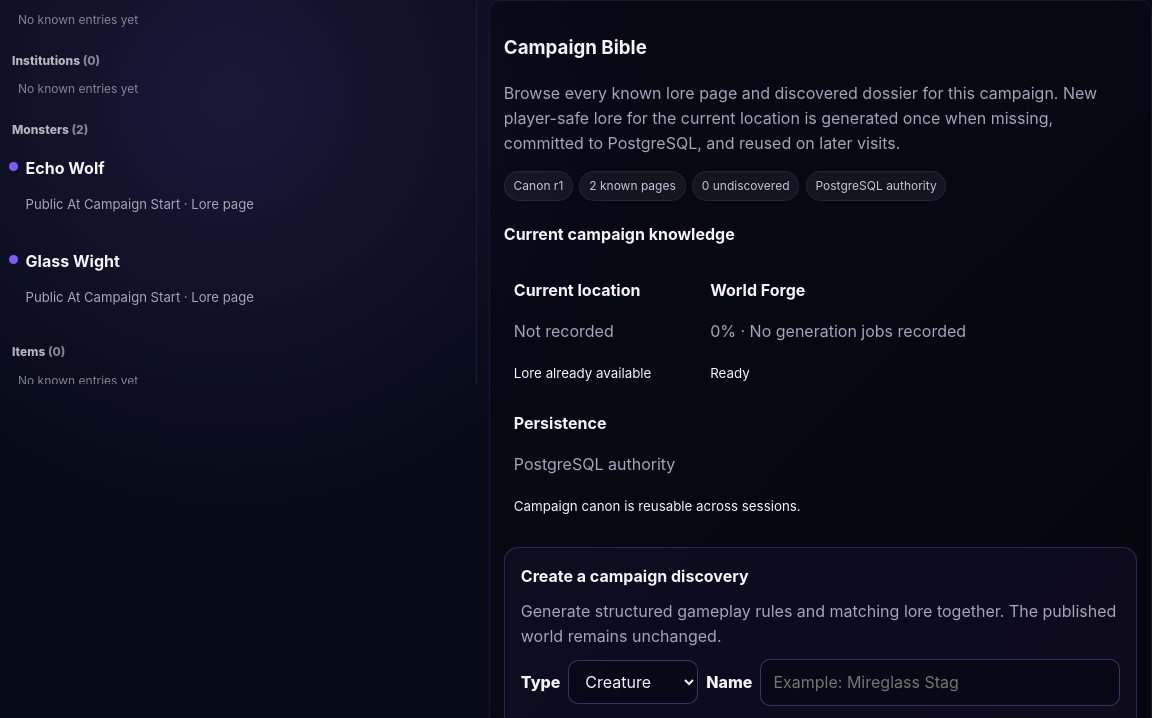
Test: RpgLorePanel › clears stale page content while the newly selected topic loads
(page scrolled)
Click the button "Echo Wolf Public At Campaign Start · Lore page".
click(65, 168)  # box [9,158,254,212]
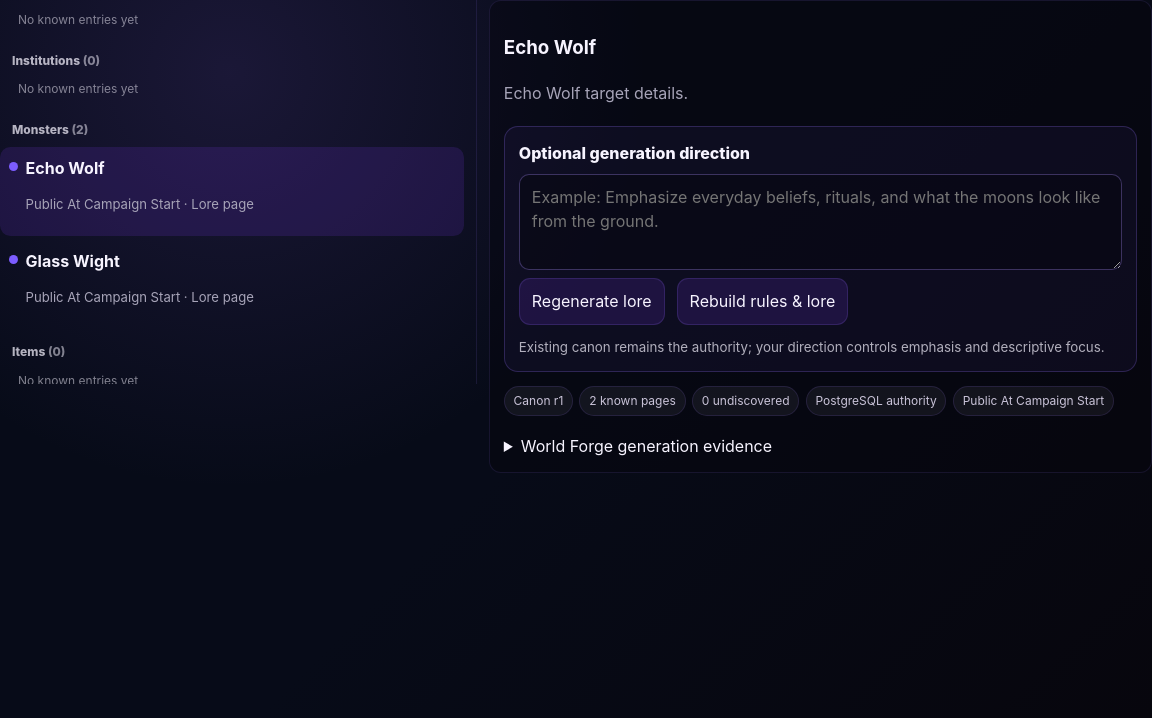
Now the text "Echo Wolf target details." is shown, box [504,83,688,103]
Click the button "Glass Wight Public At Campaign Start · Lore page".
click(73, 261)  # box [9,251,254,305]
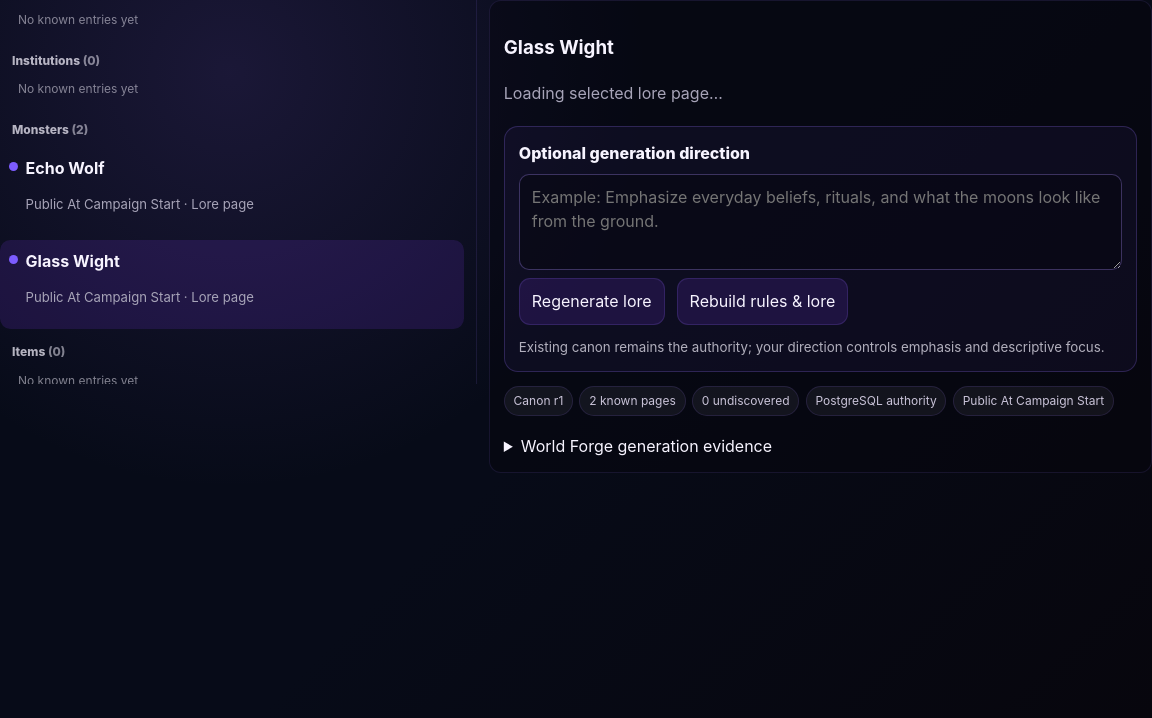
Expected: the button "Regenerate lore" is disabled, [519,278,665,325]
Now the text "Echo Wolf target details." is gone
Now the text "Loading selected lore page…" is shown, box [504,83,723,103]
